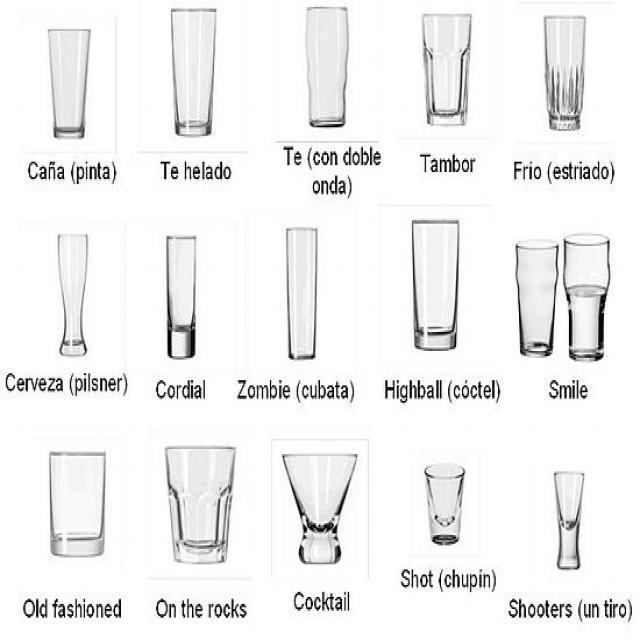glass: (283, 455, 357, 566), (166, 446, 235, 563), (169, 10, 216, 137), (563, 233, 610, 360), (412, 219, 457, 350), (49, 452, 105, 557), (304, 7, 351, 127), (45, 26, 94, 140), (421, 12, 470, 126), (516, 239, 558, 358), (546, 16, 586, 132), (286, 229, 318, 359), (58, 234, 89, 357), (166, 236, 196, 359), (424, 465, 468, 544), (553, 470, 585, 569)
